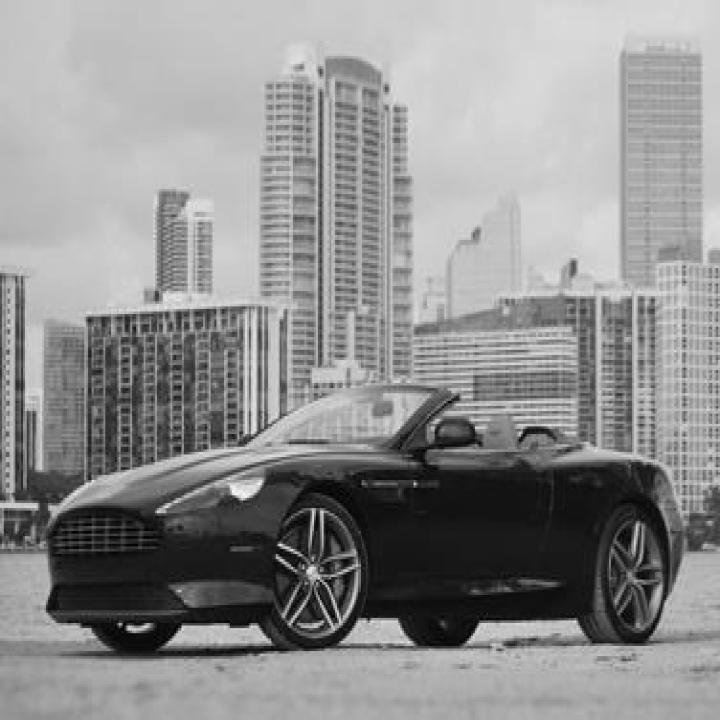car: (44, 380, 686, 651)
